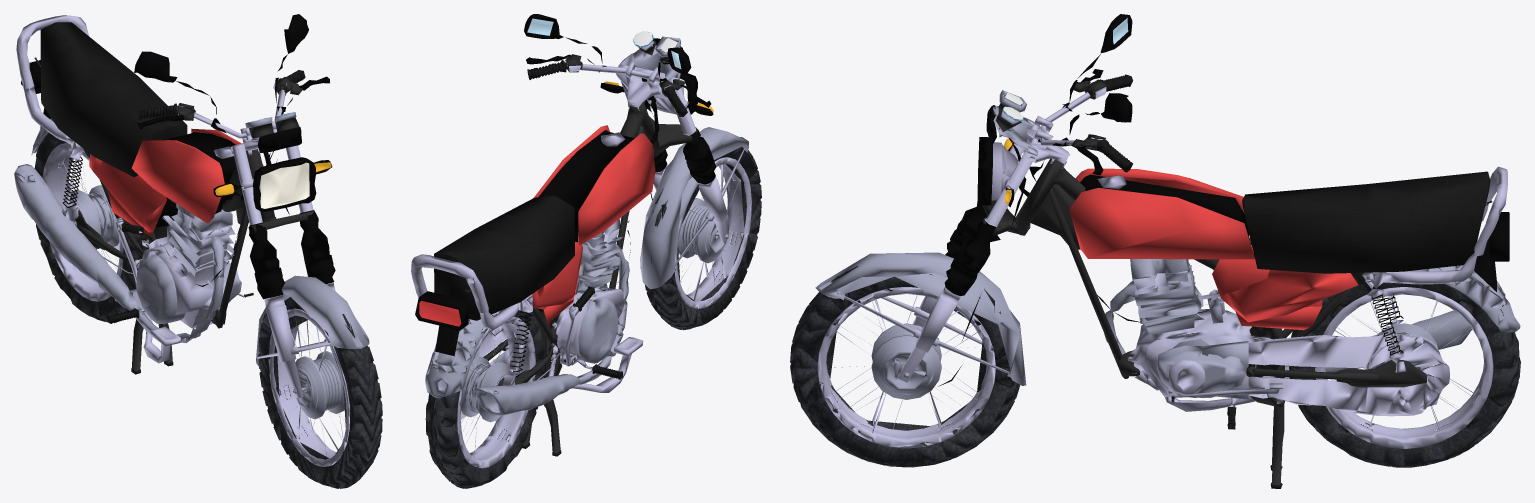
File: bike-cg125.optimized.glb
The picture shows the model from 3 angles, left to right: view 1: azimuth 30°, elevation 25°; view 2: azimuth 150°, elevation 25°; view 3: azimuth 270°, elevation 25°; orthographic projection. The views are drawn at different scales.
Parts seen in each view (by area): view 1: steering_upper_mesh, front_wheel_mesh, chassis_body, lamp_headlight; view 2: steering_upper_mesh, front_wheel_mesh, chassis_body, lamp_headlight; view 3: steering_upper_mesh, front_wheel_mesh, chassis_body.
Boxes of the visible parts, x1=… form: steering_upper_mesh: x1=14, y1=14, x2=369, y2=466; front_wheel_mesh: x1=35, y1=132, x2=382, y2=488; chassis_body: x1=89, y1=128, x2=263, y2=236; lamp_headlight: x1=215, y1=162, x2=331, y2=208; steering_upper_mesh: x1=411, y1=14, x2=751, y2=468; front_wheel_mesh: x1=425, y1=144, x2=761, y2=488; chassis_body: x1=532, y1=125, x2=655, y2=323; lamp_headlight: x1=419, y1=81, x2=713, y2=326; steering_upper_mesh: x1=815, y1=14, x2=1520, y2=488; front_wheel_mesh: x1=790, y1=265, x2=1520, y2=467; chassis_body: x1=1069, y1=168, x2=1358, y2=330.
Bounding box in the file's own units: 0.6426 × 1.25 × 1.96.
Materials: 15 (9 with a texture image).
